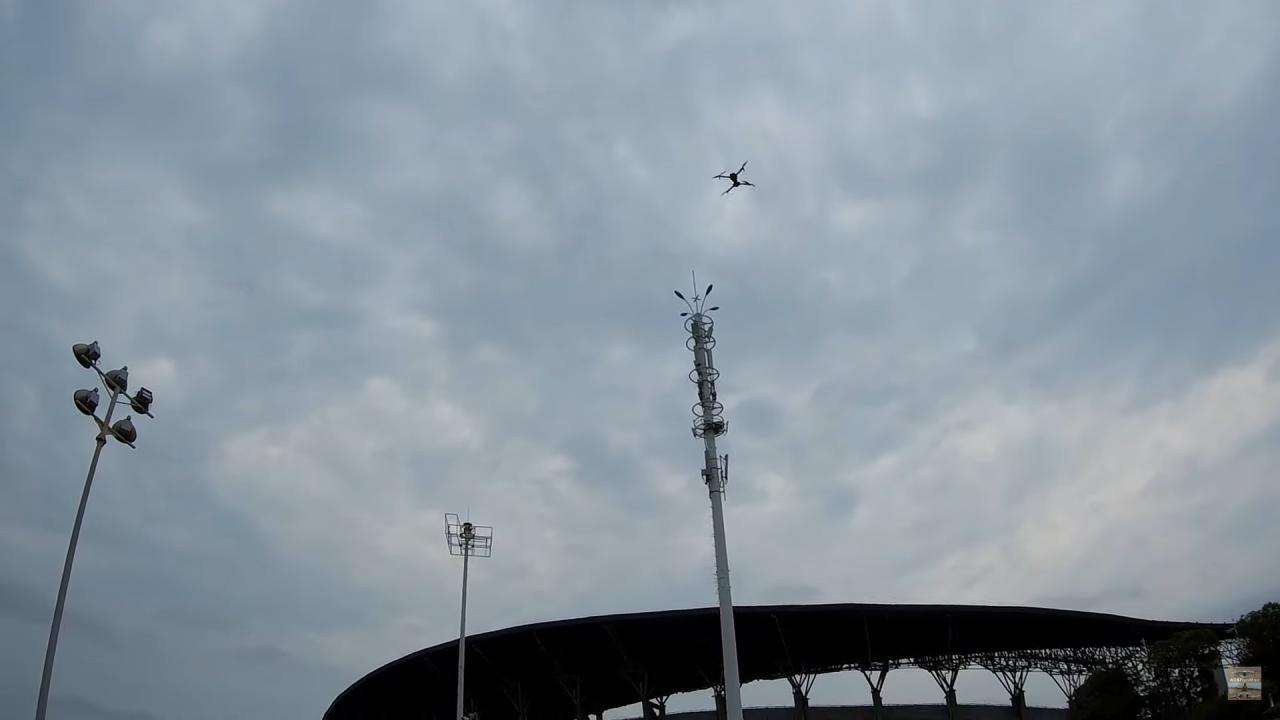Drone: (704, 153, 765, 204)
